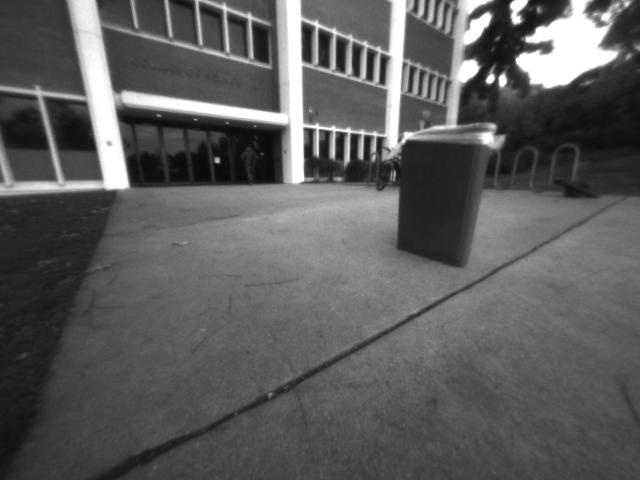trashcan_open: (390, 117, 507, 272)
